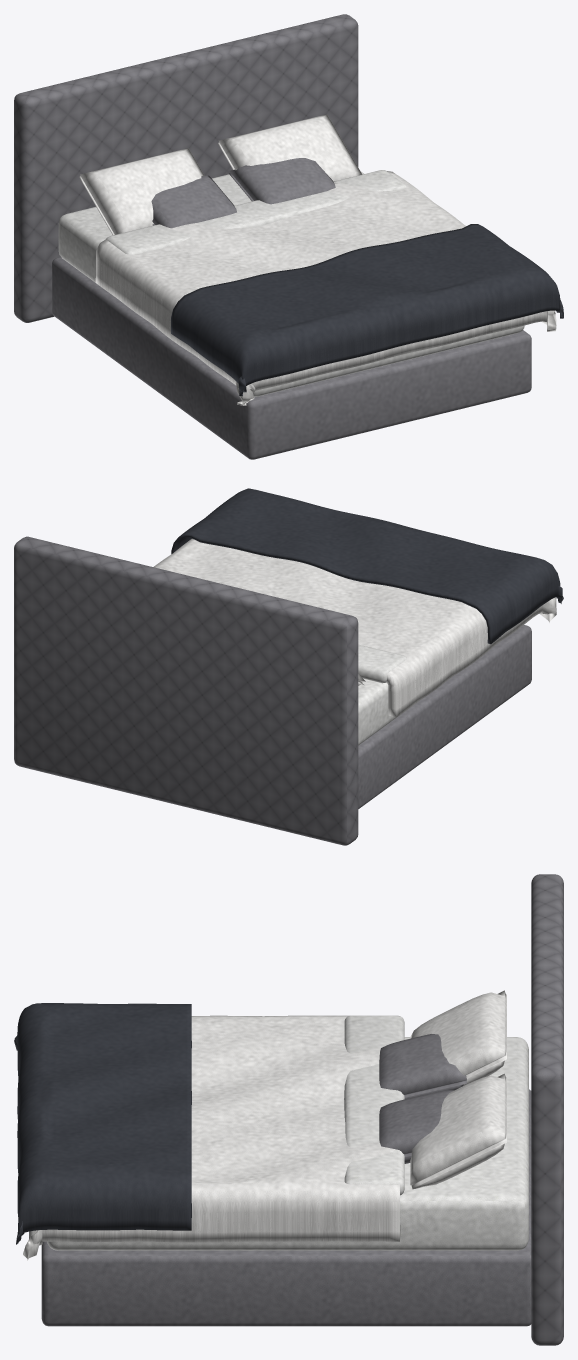
File: h_bed1.glb
The picture shows the model from 3 angles, top to bottom: view 1: azimuth 30°, elevation 25°; view 2: azimuth 150°, elevation 25°; view 3: azimuth 270°, elevation 25°; orthographic projection. The views are drawn at different scales.
Parts seen in each view (by area): view 1: head, runner, base, duvet, pillow.001, pillow, mattress, fold, pillow.002, pillow.003; view 2: head, runner, duvet, base, mattress, fold; view 3: duvet, runner, base, mattress, head, pillow, fold, pillow.001, pillow.003, pillow.002.
Part boxes in pixels (<box>): head: <box>14,14,358,322</box>; runner: <box>171,224,563,396</box>; base: <box>52,257,531,459</box>; duvet: <box>95,171,556,405</box>; pillow.001: <box>79,148,204,235</box>; pillow: <box>217,114,362,201</box>; mattress: <box>58,171,524,396</box>; fold: <box>106,170,406,254</box>; pillow.002: <box>229,158,335,204</box>; pillow.003: <box>151,175,236,228</box>; head: <box>14,536,358,845</box>; runner: <box>171,488,563,644</box>; duvet: <box>153,538,556,717</box>; base: <box>358,625,531,808</box>; mattress: <box>358,678,395,745</box>; fold: <box>358,644,406,683</box>; duvet: <box>23,1015,400,1260</box>; runner: <box>14,1003,191,1244</box>; base: <box>41,1089,531,1326</box>; mattress: <box>47,1037,528,1250</box>; head: <box>531,874,563,1345</box>; pillow: <box>410,1073,506,1189</box>; fold: <box>344,1015,404,1195</box>; pillow.001: <box>410,990,506,1085</box>; pillow.003: <box>379,1034,466,1099</box>; pillow.002: <box>379,1090,453,1163</box>.
Bounding box in the file's own units: 1.81 × 1.15 × 2.08.
Materials: 5 (5 with a texture image).
